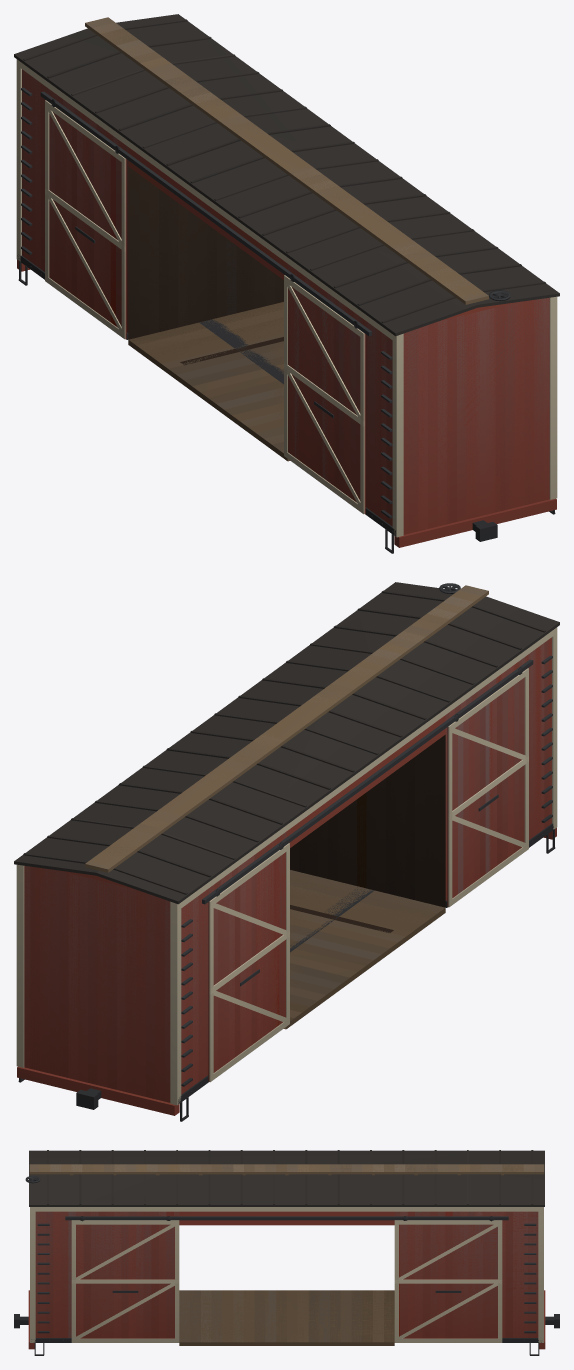
File: doors.glb
The picture shows the model from 3 angles, top to bottom: view 1: azimuth 30°, elevation 25°; view 2: azimuth 150°, elevation 25°; view 3: azimuth 270°, elevation 25°; orthographic projection. The views are drawn at different scales.
Parts seen in each view (by area): view 1: Body, Far, Door_LF, Door_LB; view 2: Body, Far, Door_LB, Door_LF; view 3: Body, Far, Door_RF, Door_RB.
Part boxes in pixels (x1,y1,x2,y2): Body: (14,14,559,553); Far: (22,18,549,534); Door_LF: (45,99,126,339); Door_LB: (284,274,365,514); Body: (14,582,559,1121); Far: (24,584,551,1101); Door_LB: (447,667,528,907); Door_LF: (208,842,289,1082); Body: (14,1150,559,1355); Far: (26,1164,543,1342); Door_RF: (394,1216,502,1342); Door_RB: (71,1216,179,1342).
Bounding box in the file's own units: 6 × 8.27 × 25.36.
